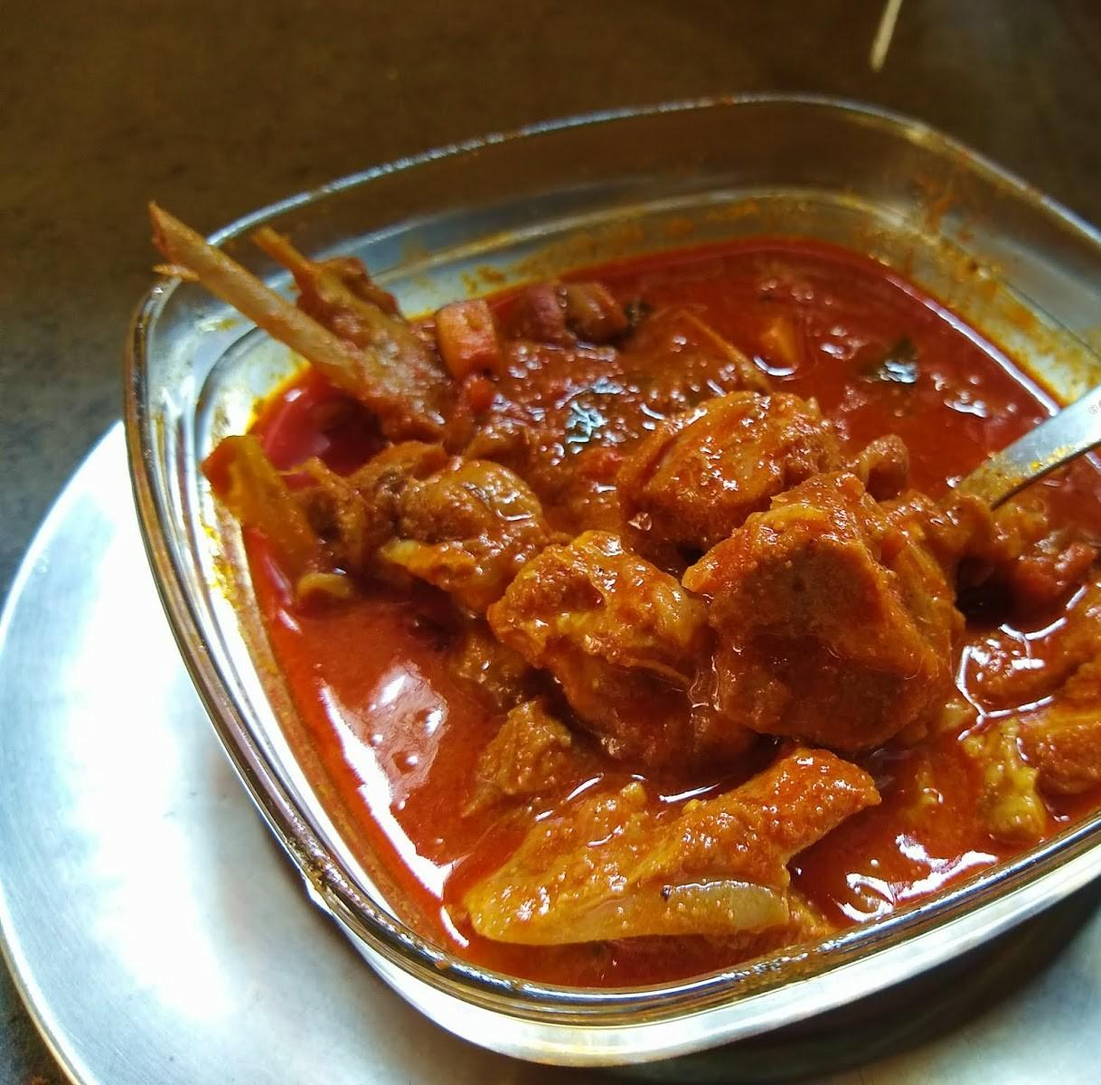MuttonCurry: (141, 200, 1101, 979)
